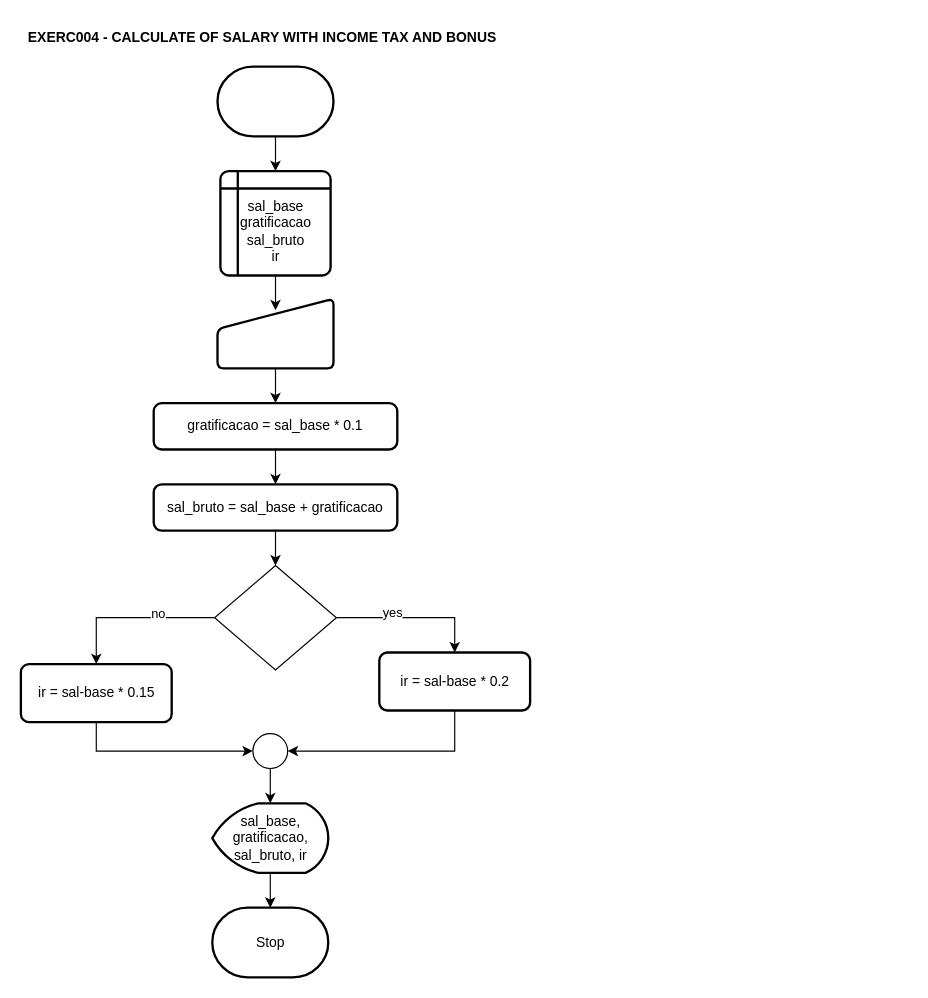
This 928x998 diagram has some shape labels left out. The shapes that lost their labels are listed below. From the top down, each one's centre as x and y in pixels, then its label:
[275,101]: Start
[275,333]: sal_base
[274,617]: sal_bruto > 1200
